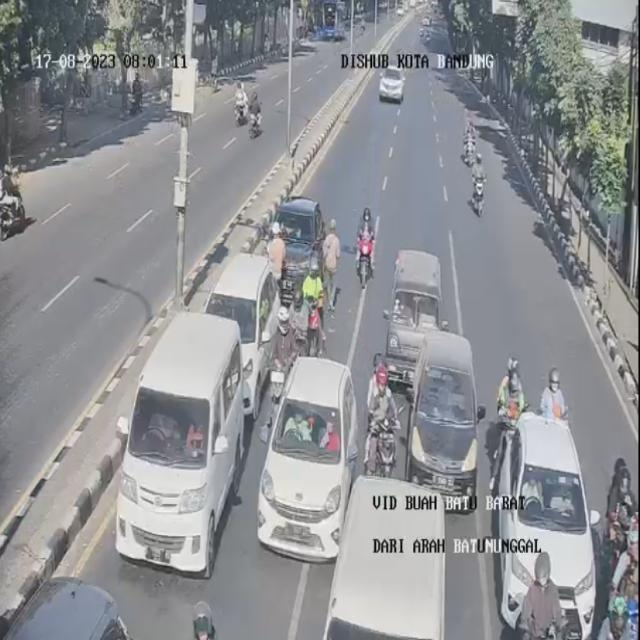cars: (115, 312, 243, 578), (488, 412, 599, 638), (257, 357, 358, 562), (325, 476, 446, 640), (407, 331, 486, 501), (205, 255, 277, 419), (384, 248, 442, 384), (5, 578, 129, 640), (275, 195, 325, 301), (380, 65, 404, 102)
motorcycle: (599, 457, 638, 626), (365, 363, 401, 477), (522, 553, 565, 640), (614, 512, 640, 637), (273, 304, 302, 374), (499, 356, 529, 421), (357, 207, 375, 287), (541, 368, 568, 418), (472, 152, 487, 216), (291, 291, 308, 341), (194, 601, 215, 640), (463, 115, 477, 165)
